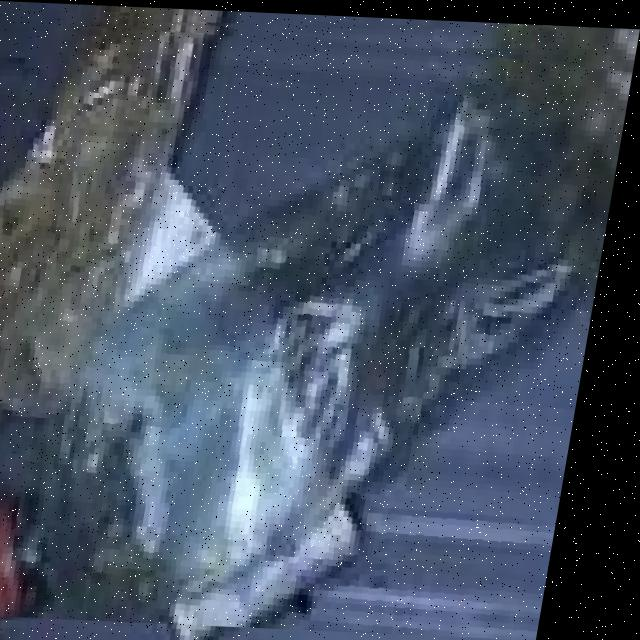litter: (0, 4, 640, 633)
